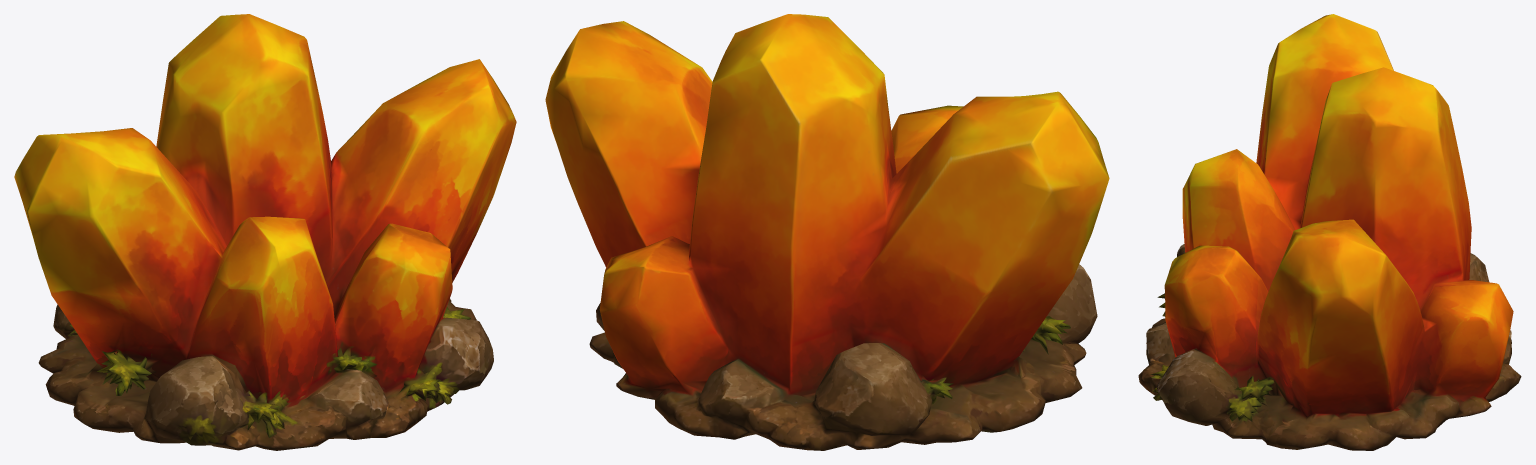
3 renders of one model, left to right at view 1: azimuth 30°, elevation 25°; view 2: azimuth 150°, elevation 25°; view 3: azimuth 270°, elevation 25°, orthographic. The views are drawn at different scales.
Parts seen in each view (by area): view 1: amber_crystal_5_painted; view 2: amber_crystal_5_painted; view 3: amber_crystal_5_painted.
Part boxes in pixels (x1=…): amber_crystal_5_painted: x1=14, y1=14, x2=516, y2=450; amber_crystal_5_painted: x1=545, y1=14, x2=1109, y2=450; amber_crystal_5_painted: x1=1138, y1=14, x2=1521, y2=450.
Size of the model in its own units: 6.6 by 4.29 by 4.77.
1 material, 1 textured.
